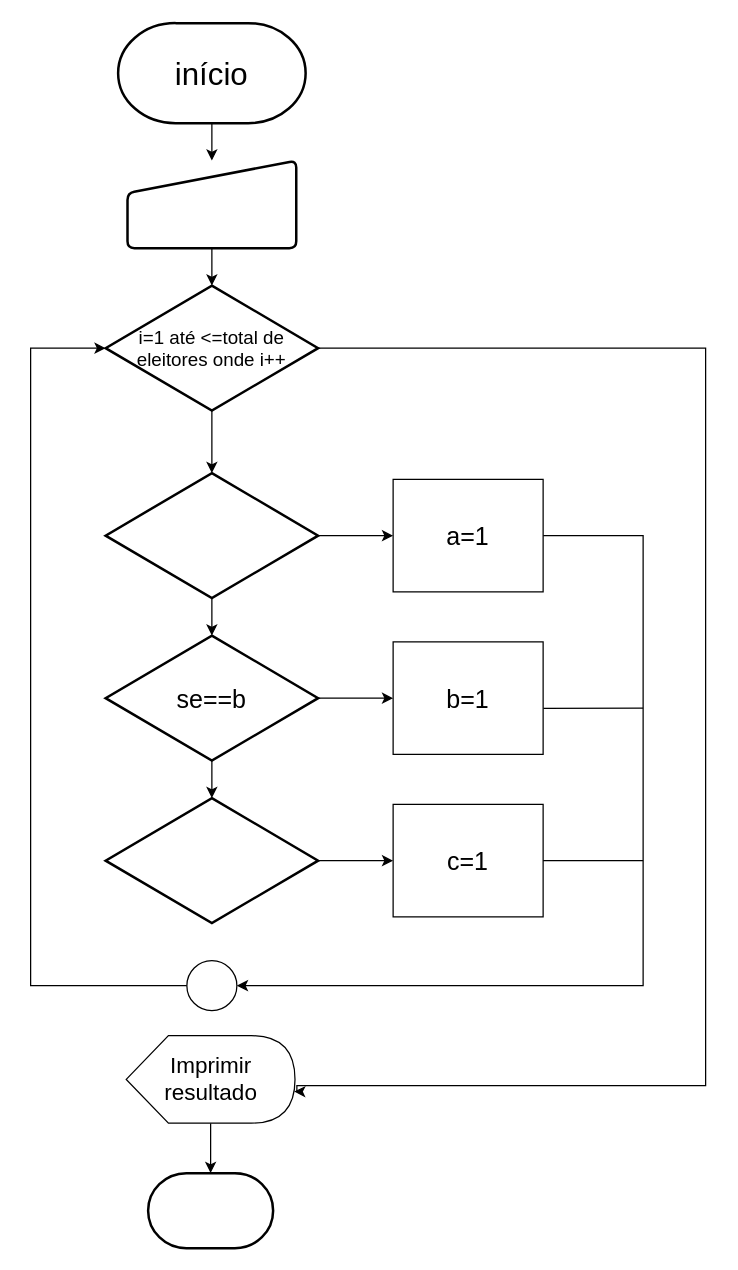
This 738x1270 diagram has some shape labels left out. Here are the shapes that lost their labels. From the top down, the centre of each, then its label:
At (211,204): "insira a quantidade de eleitores".
At (211,535): "se==a".
At (211,860): "se==c".
At (210,1210): "Fim.".
